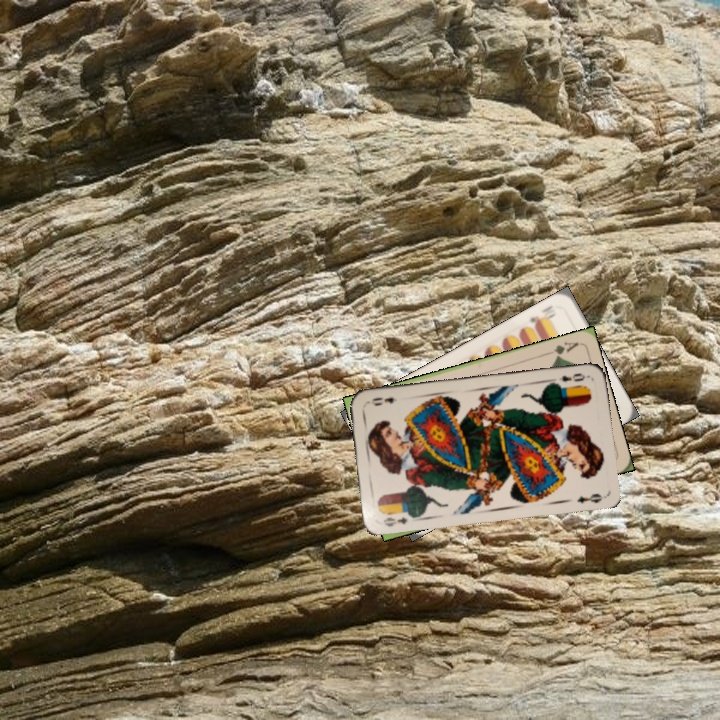E10: (526, 301, 558, 330)
EO: (555, 369, 588, 384), (379, 513, 409, 529)
GA: (542, 338, 581, 361)
